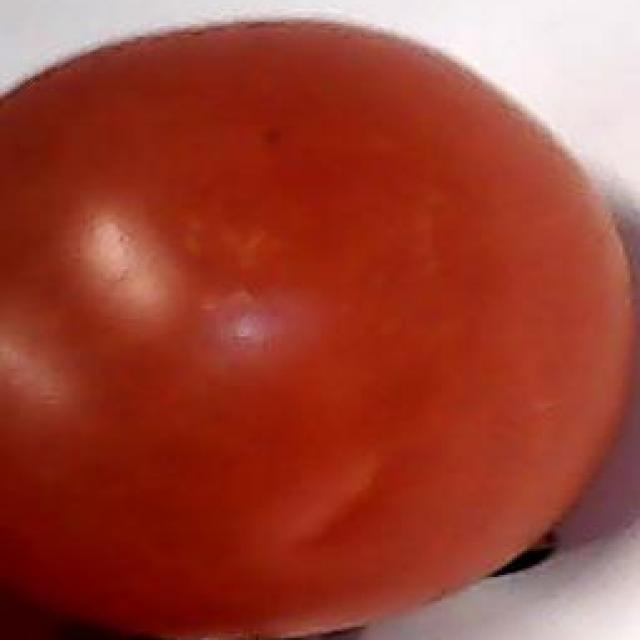Healthy: (3, 2, 640, 613)
